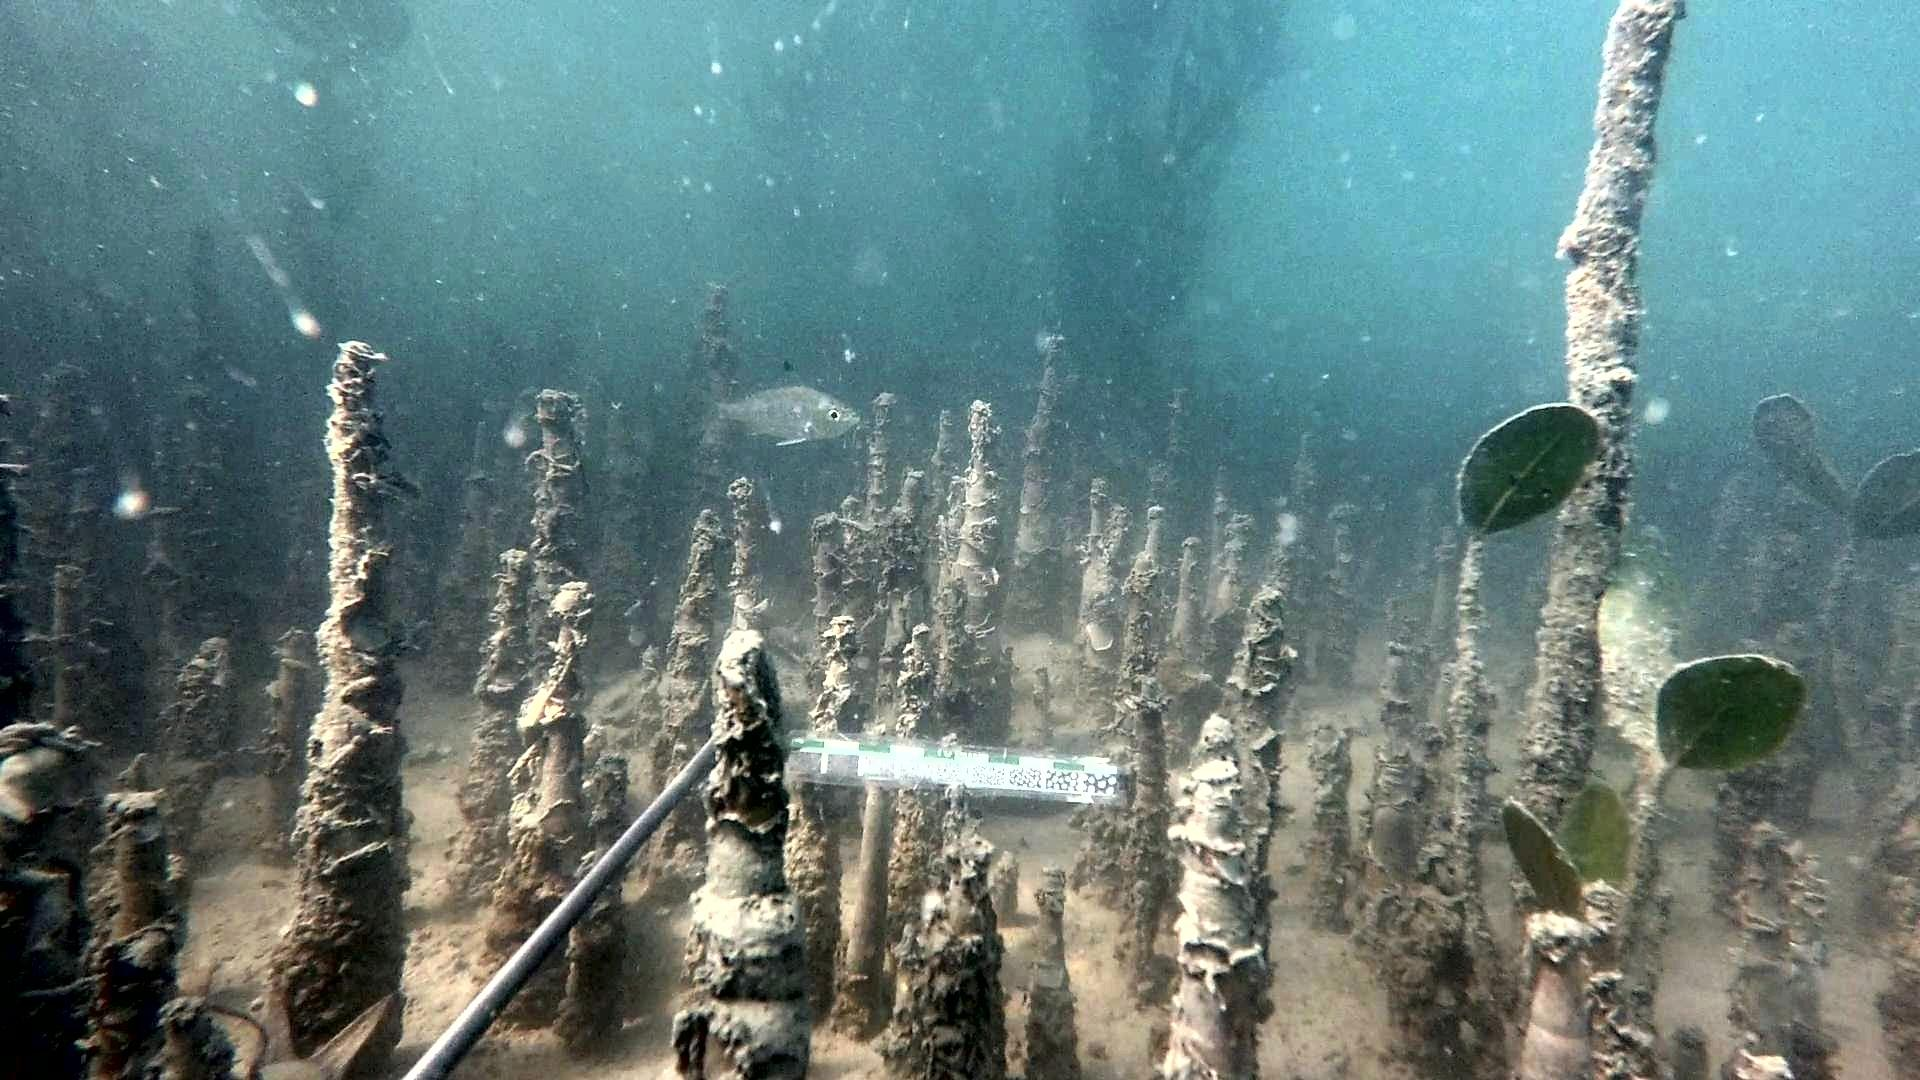gerres: (685, 359, 864, 448)
